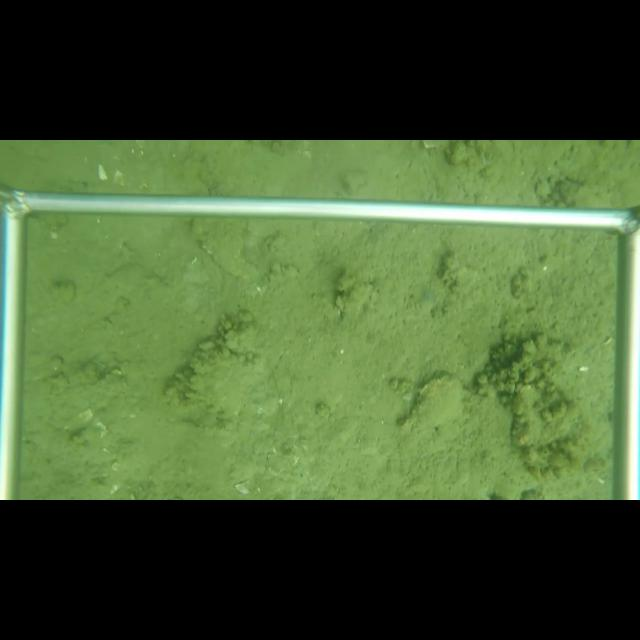Oyster-Closed: (189, 337, 266, 424), (393, 373, 465, 433)
